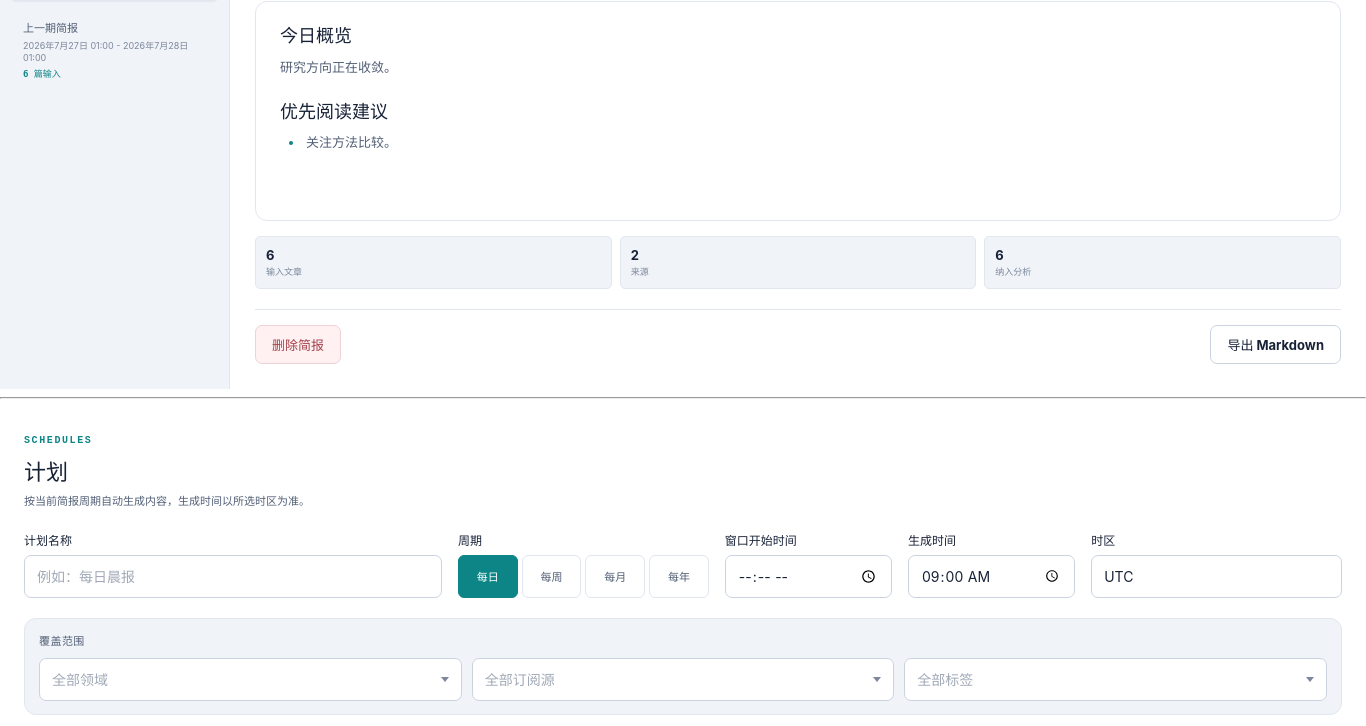
BriefWorkspace › deletes a brief after confirmation and selects the next one
(page scrolled)
Click the button "删除简报".
click(298, 345)  # box [255,325,341,364]
(page scrolled)
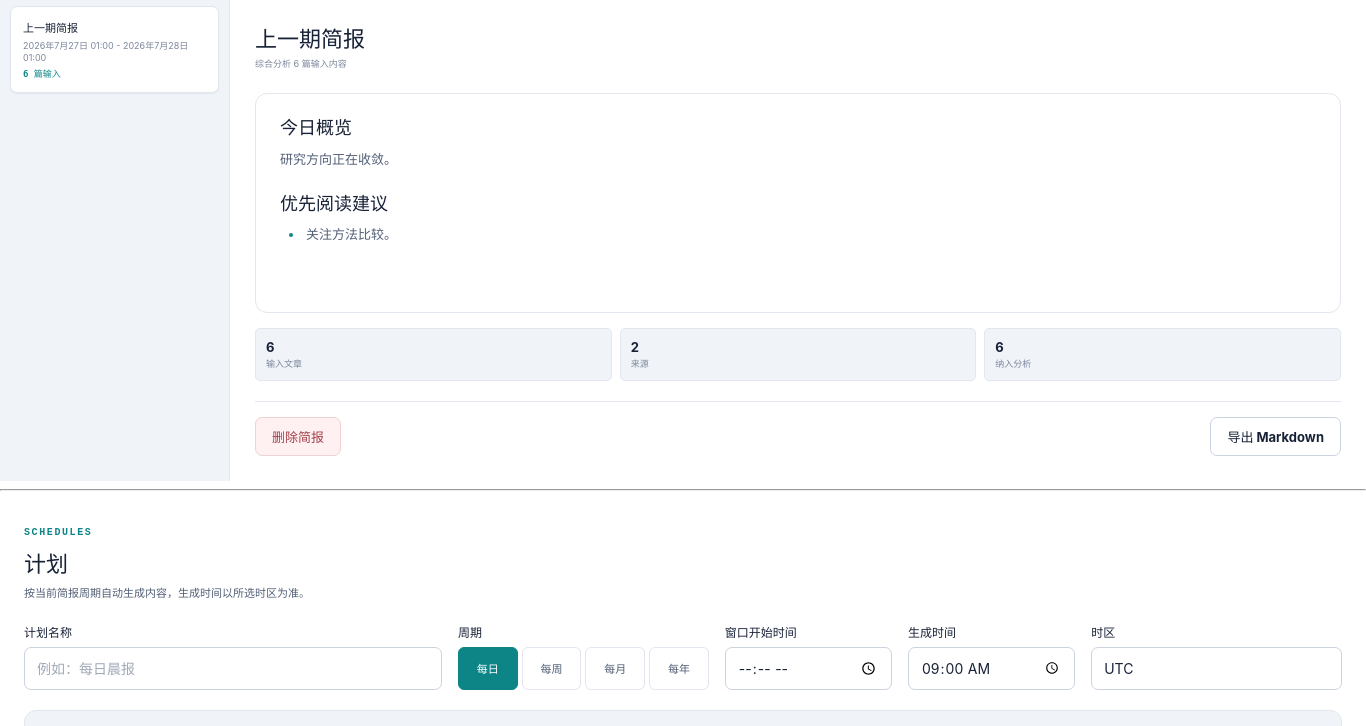
Now the heading "上一期简报" is shown, box [255,21,365,53]
